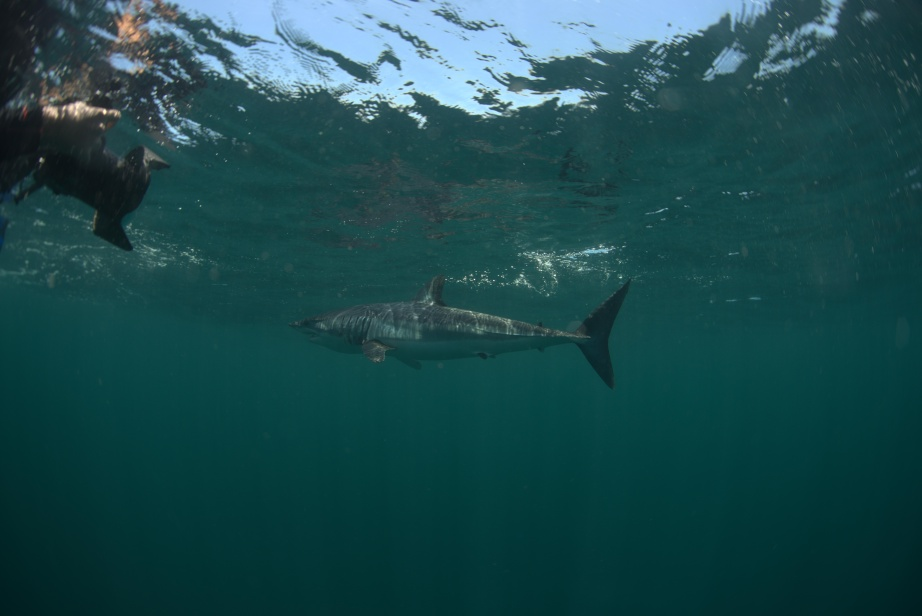Mako: (240, 257, 640, 410)
